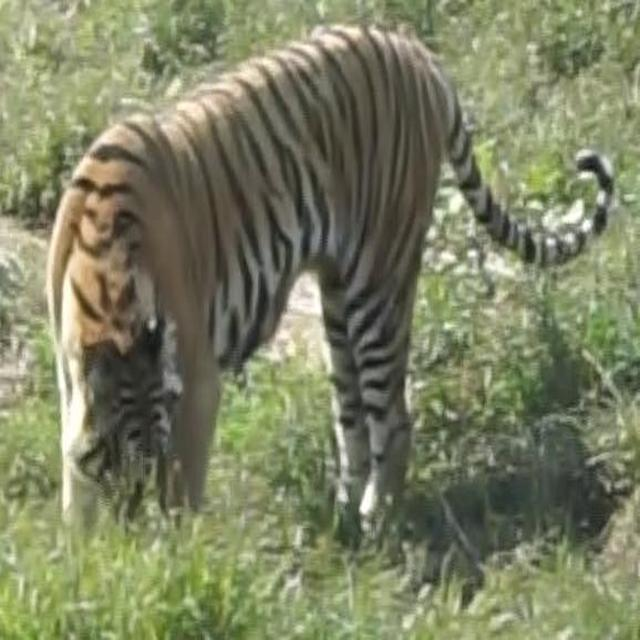tiger: (42, 20, 615, 557)
